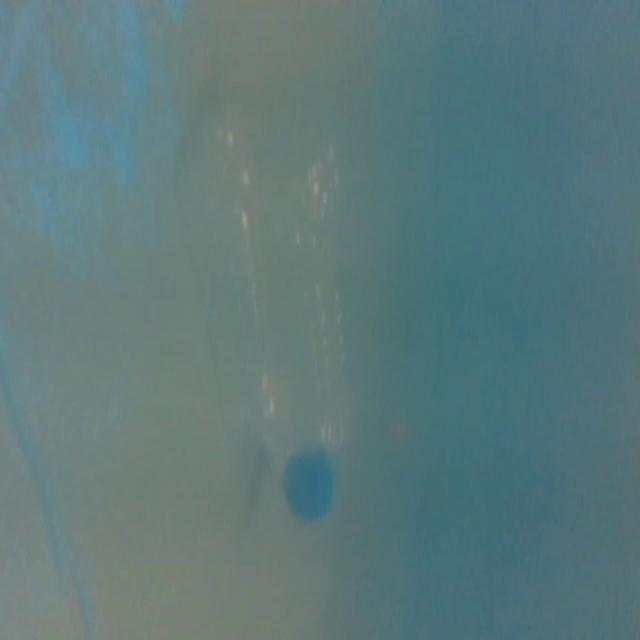plastic bottle: (206, 107, 363, 534)
